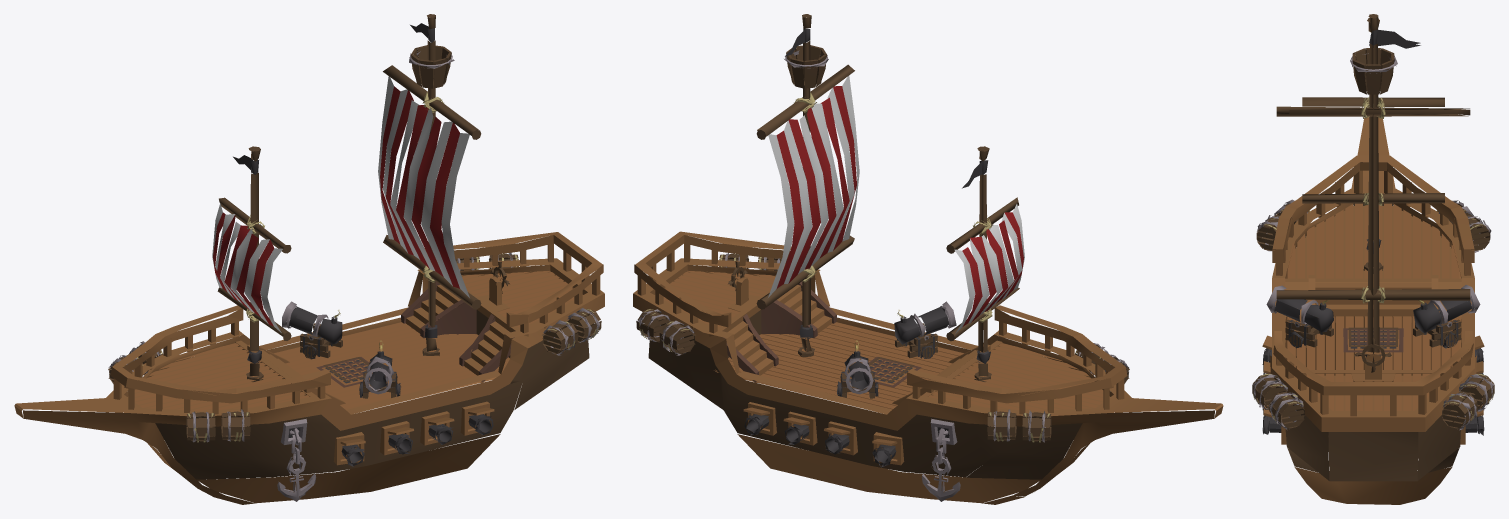
3 renders of one model, left to right at view 1: azimuth 30°, elevation 25°; view 2: azimuth 150°, elevation 25°; view 3: azimuth 270°, elevation 25°, orthographic. The views are drawn at different scales.
Parts seen in each view (by area): view 1: Ship_Large; view 2: Ship_Large; view 3: Ship_Large.
Part boxes in pixels (box(x1,y1,x2,y2)): Ship_Large: box(14, 14, 604, 504); Ship_Large: box(633, 14, 1223, 504); Ship_Large: box(1252, 14, 1494, 504).
Size of the model in its own units: 15.43 by 11.48 by 5.29.
Materials: 1 (1 with a texture image).
